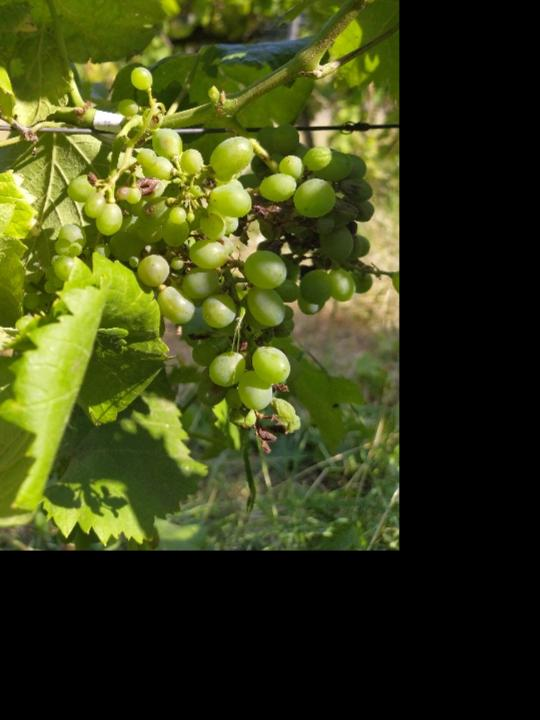grape: (63, 64, 378, 458)
